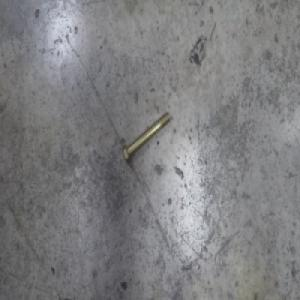Bolt: (121, 109, 171, 166)
